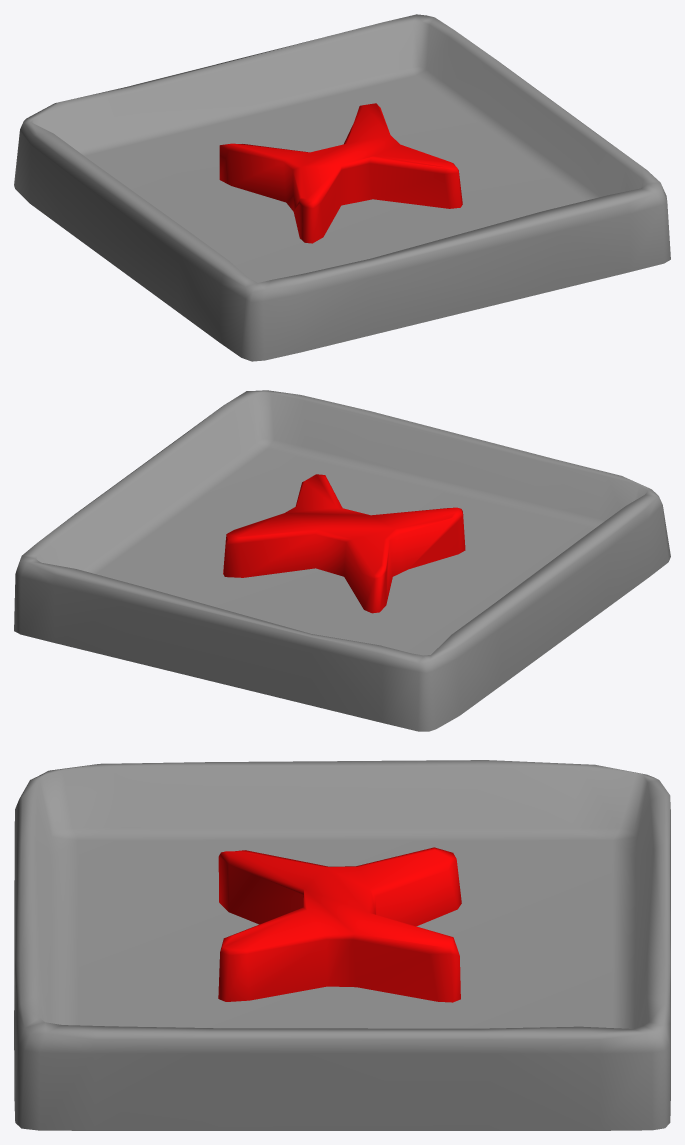
Rendered from Temple_Recepticle_X.FBX.
3 renders of one model, top to bottom at view 1: azimuth 30°, elevation 25°; view 2: azimuth 150°, elevation 25°; view 3: azimuth 270°, elevation 25°, orthographic. The views are drawn at different scales.
Visible parts, largest first — view 1: Recepticle_X; view 2: Recepticle_X; view 3: Recepticle_X.
Part boxes in pixels (<box>): Recepticle_X: <box>14,14,670,361</box>; Recepticle_X: <box>14,390,670,731</box>; Recepticle_X: <box>14,760,670,1130</box>.
Bounding box in the file's own units: 296 × 48.64 × 296.
